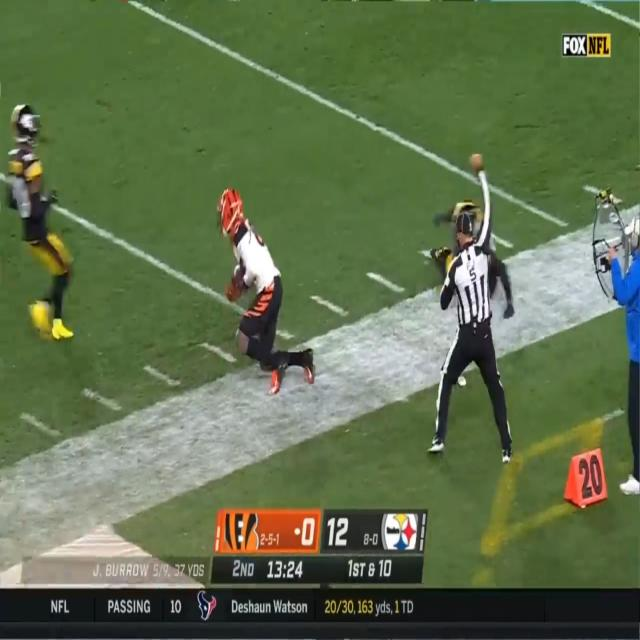Ball: (231, 260, 243, 284)
